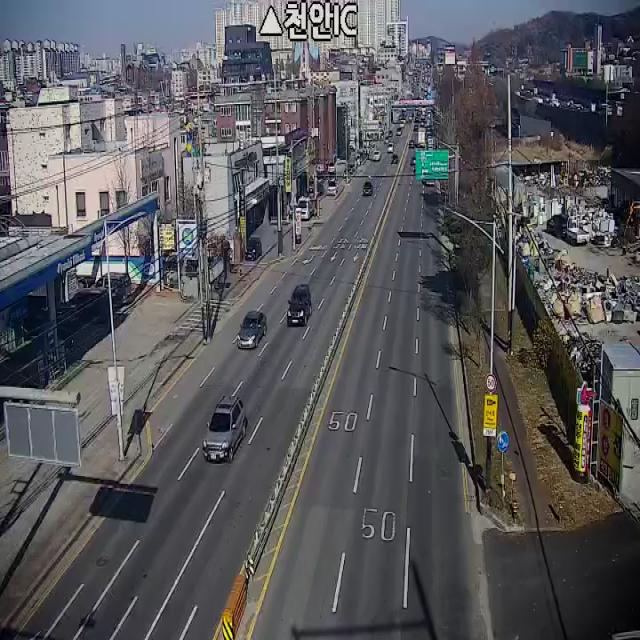Car: (202, 396, 248, 462), (90, 272, 132, 301), (238, 310, 268, 349), (287, 284, 312, 327), (245, 237, 263, 262), (362, 181, 373, 196), (373, 150, 381, 160), (387, 142, 394, 153), (392, 154, 398, 164)
Truck: (562, 219, 590, 247)
